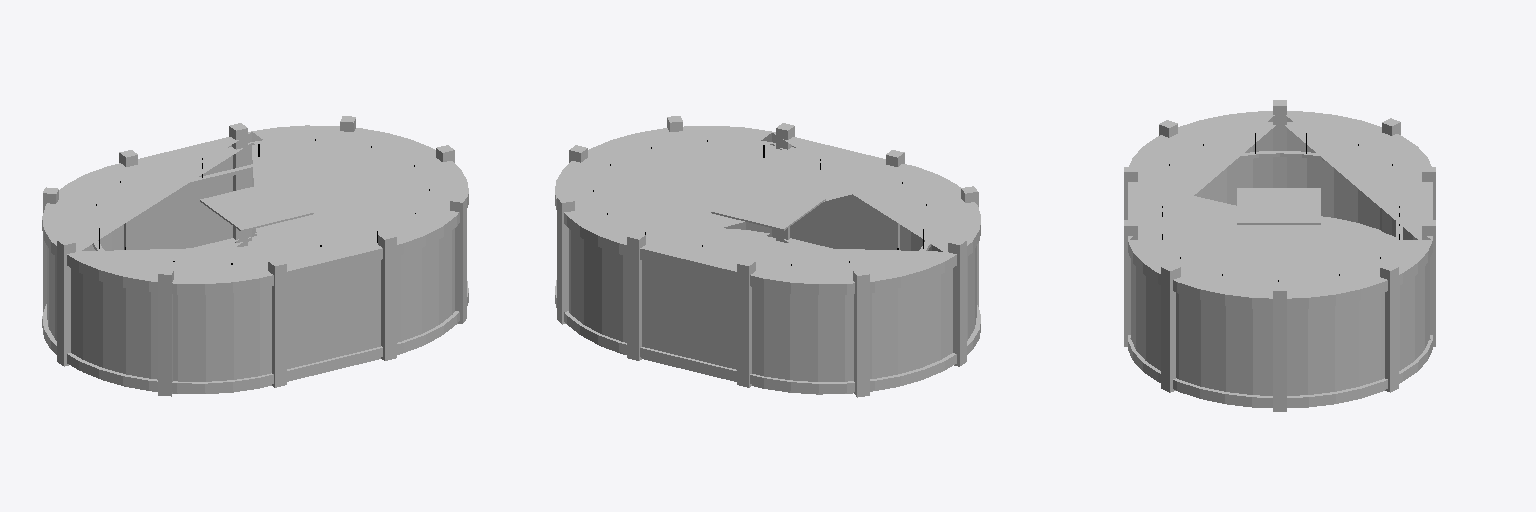
Rendered from ROOM.obj.
The picture shows the model from 3 angles: view 1: azimuth 30°, elevation 25°; view 2: azimuth 150°, elevation 25°; view 3: azimuth 270°, elevation 25°; orthographic projection.
Visible parts, largest first — view 1: lighting_wall_Circle.011, Wall.002_Circle.002, Cube.001_Cube.006, Cube.002_Cube.008; view 2: lighting_wall_Circle.011, Wall.002_Circle.002, Cube.001_Cube.006, Cube.002_Cube.008; view 3: lighting_wall_Circle.011, Wall.002_Circle.002, Cube.001_Cube.006, Cube.002_Cube.008, Rooftop.002_Circle.007.
Boxes of the visible parts, x1,y1,x2,y2 form: lighting_wall_Circle.011: [42, 125, 468, 392]; Wall.002_Circle.002: [47, 140, 454, 381]; Cube.001_Cube.006: [43, 116, 466, 396]; Cube.002_Cube.008: [200, 182, 313, 231]; lighting_wall_Circle.011: [555, 126, 980, 392]; Wall.002_Circle.002: [569, 141, 976, 381]; Cube.001_Cube.006: [557, 116, 978, 397]; Cube.002_Cube.008: [711, 181, 825, 230]; lighting_wall_Circle.011: [1128, 111, 1432, 406]; Wall.002_Circle.002: [1131, 122, 1429, 395]; Cube.001_Cube.006: [1124, 100, 1435, 411]; Cube.002_Cube.008: [1237, 188, 1320, 224]; Rooftop.002_Circle.007: [1235, 151, 1402, 239].
Bounding box in the file's own units: 20.77 × 6.18 × 14.34.